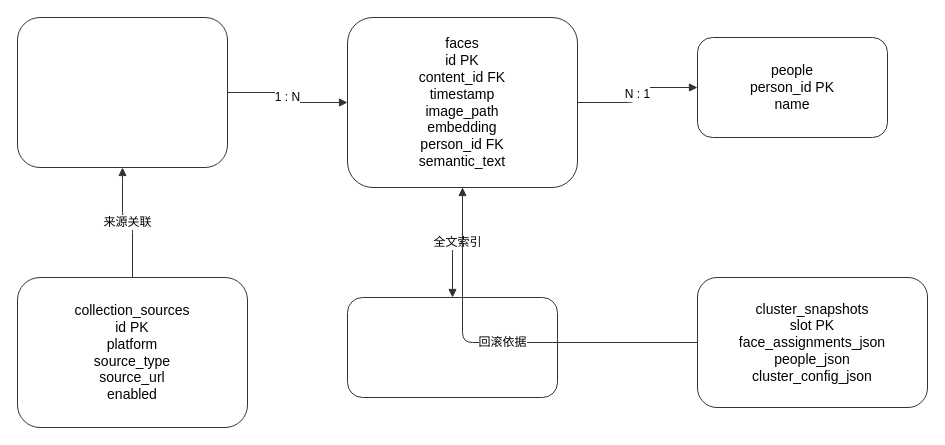
The diagram is 945 pixels wide and 445 high, and some of its shapes have lost their labels. Each missing label, with the box of its shape:
contents id PK platform external_id content_type title source_url: (16, 16, 228, 168)
face_fts id description: (346, 296, 558, 398)
